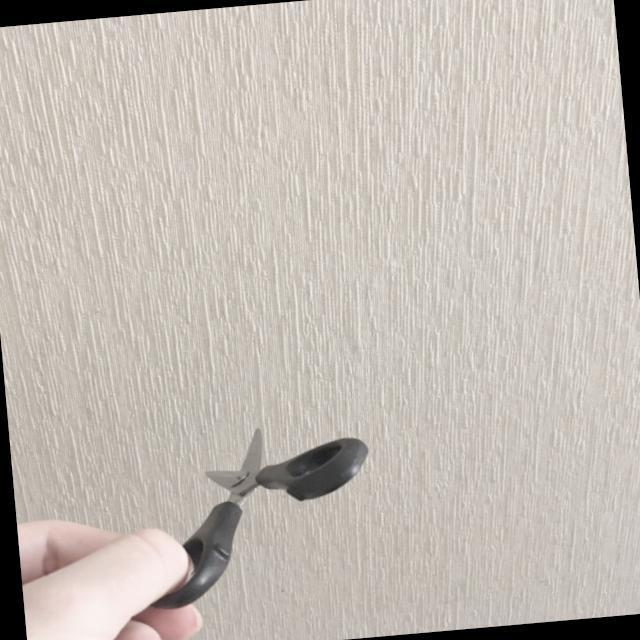scissors: (134, 427, 380, 612)
